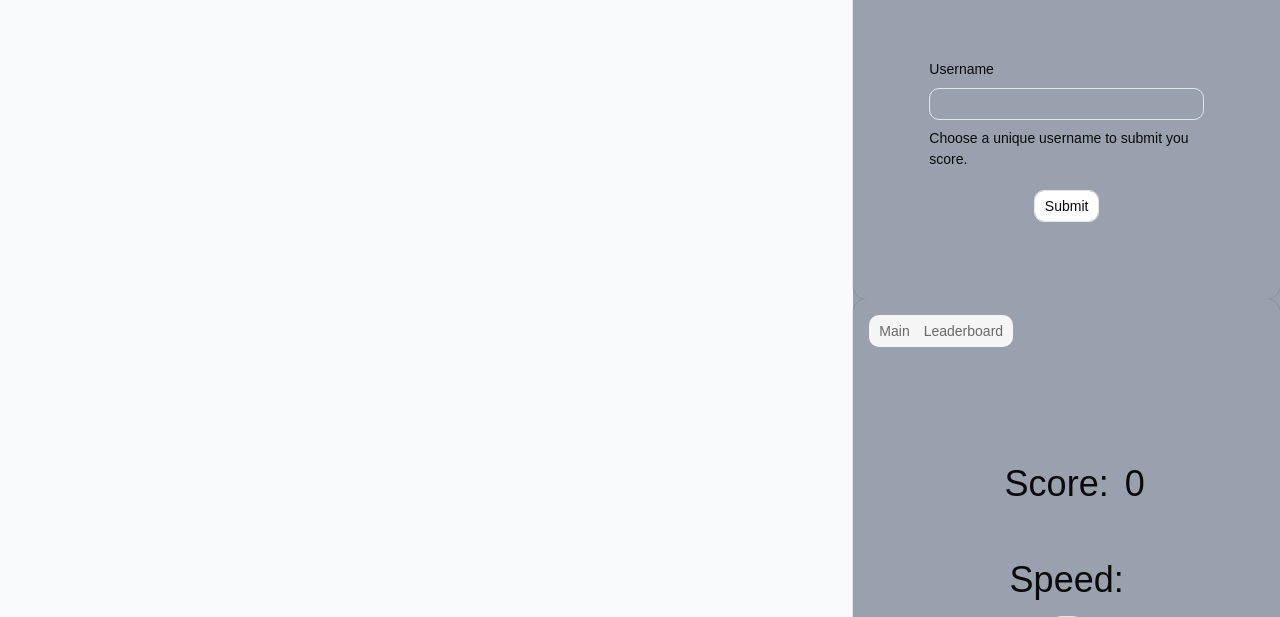
Test: Leaderboard › sorts leaderboard by score descending
The image size is (1280, 617).
(page scrolled)
Press the mouse on the tab "Leaderboard": (963, 331) x1=917 y1=318 x2=1010 y2=344
(page scrolled)
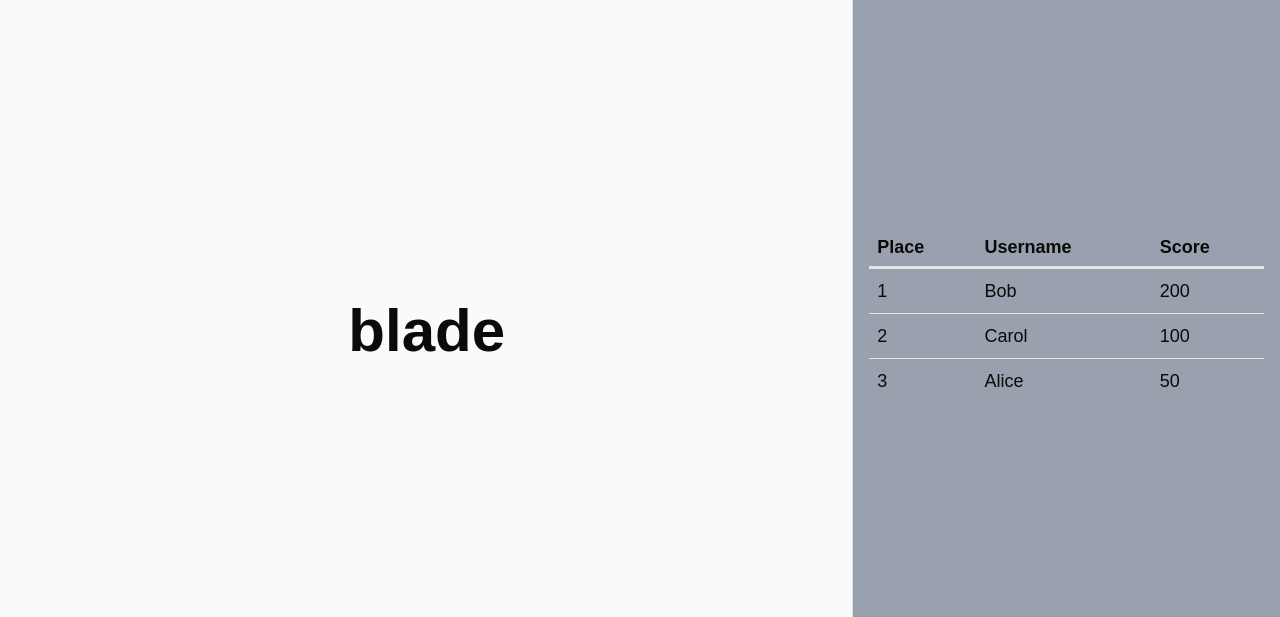
expect the row "1 Bob 200" is shown: met, box x1=869 y1=267 x2=1264 y2=313
expect the row "2 Carol 100" is shown: met, box x1=869 y1=313 x2=1264 y2=358
expect the row "3 Alice 50" is shown: met, box x1=869 y1=358 x2=1264 y2=403
